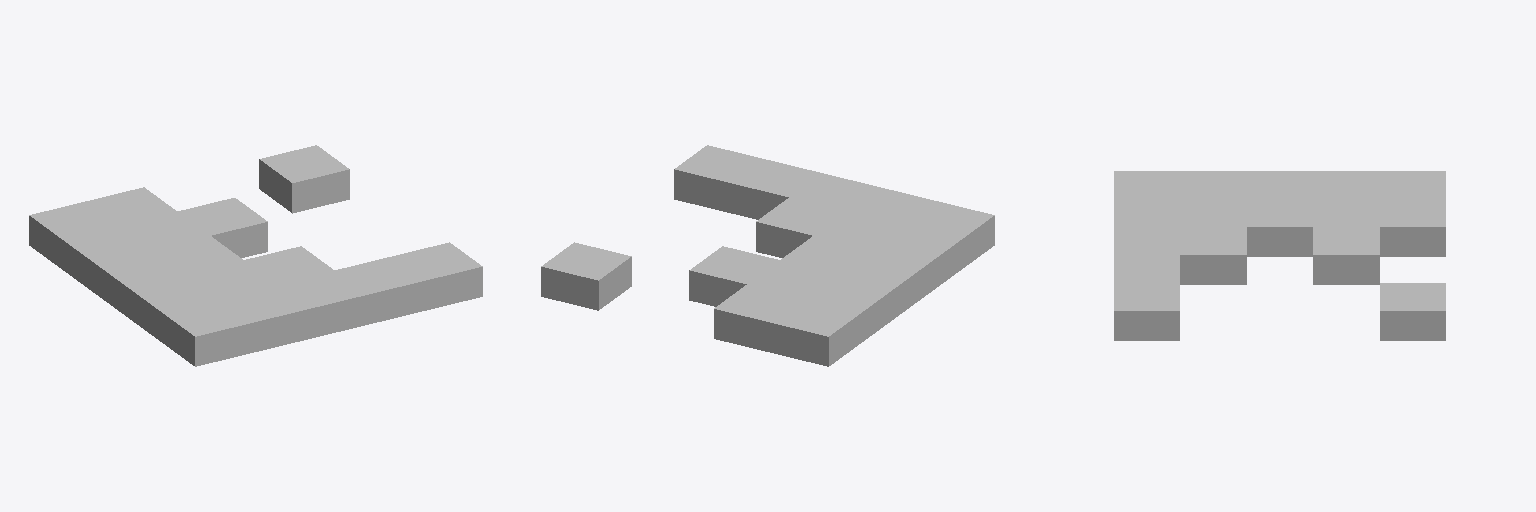
The model's file is 18s_block.obj.
3 renders of one model, left to right at view 1: azimuth 30°, elevation 25°; view 2: azimuth 150°, elevation 25°; view 3: azimuth 270°, elevation 25°, orthographic.
Parts seen in each view (by area): view 1: block.0.0_block.3129, block.4.4_block.3145, block.4.0_block.3144, block.2.0_block.3139, block.1.0_block.3134, block.3.0_block.3143, block.2.3_block.3142, block.0.3_block.3132, block.0.4_block.3133, block.0.2_block.3131, block.0.1_block.3130, block.1.1_block.3135 (+4 smaller); view 2: block.4.4_block.3145, block.0.4_block.3133, block.4.0_block.3144, block.1.4_block.3138, block.2.3_block.3142, block.2.1_block.3140, block.3.0_block.3143, block.0.1_block.3130, block.0.0_block.3129, block.0.2_block.3131, block.0.3_block.3132, block.2.0_block.3139 (+4 smaller); view 3: block.2.1_block.3140, block.2.3_block.3142, block.1.2_block.3136, block.1.4_block.3138, block.4.0_block.3144, block.4.4_block.3145, block.0.1_block.3130, block.0.3_block.3132, block.1.1_block.3135, block.1.3_block.3137, block.0.0_block.3129, block.0.2_block.3131 (+4 smaller).
Part boxes in pixels (x1,y1,x2,y2): block.0.0_block.3129: (162,298,252,366); block.4.4_block.3145: (259,145,349,213); block.4.0_block.3144: (392,242,482,310); block.2.0_block.3139: (277,270,367,338); block.1.0_block.3134: (220,285,309,352); block.3.0_block.3143: (335,257,424,324); block.2.3_block.3142: (177,198,267,257); block.0.3_block.3132: (62,226,152,293); block.0.4_block.3133: (29,201,119,268); block.0.2_block.3131: (96,250,184,317); block.0.1_block.3130: (129,274,218,341); block.1.1_block.3135: (187,260,276,297); block.4.4_block.3145: (541,242,631,310); block.0.4_block.3133: (771,298,861,366); block.4.0_block.3144: (674,145,763,213); block.1.4_block.3138: (714,285,803,352); block.2.3_block.3142: (689,246,779,306); block.2.1_block.3140: (756,198,846,257); block.3.0_block.3143: (732,159,821,219); block.0.1_block.3130: (871,226,961,293); block.0.0_block.3129: (904,201,994,268); block.0.2_block.3131: (839,250,927,317); block.0.3_block.3132: (805,274,894,341); block.2.0_block.3139: (789,173,878,210); block.2.1_block.3140: (1180,227,1246,284); block.2.3_block.3142: (1313,227,1379,284); block.1.2_block.3136: (1247,199,1312,256); block.1.4_block.3138: (1380,199,1445,256); block.4.0_block.3144: (1114,283,1179,340); block.4.4_block.3145: (1380,283,1445,340); block.0.1_block.3130: (1180,171,1246,198); block.0.3_block.3132: (1313,171,1379,198); block.1.1_block.3135: (1180,199,1246,226); block.1.3_block.3137: (1313,199,1379,226); block.0.0_block.3129: (1114,171,1179,198); block.0.2_block.3131: (1247,171,1312,198).
Bounding box in the file's own units: 10 × 1 × 10.